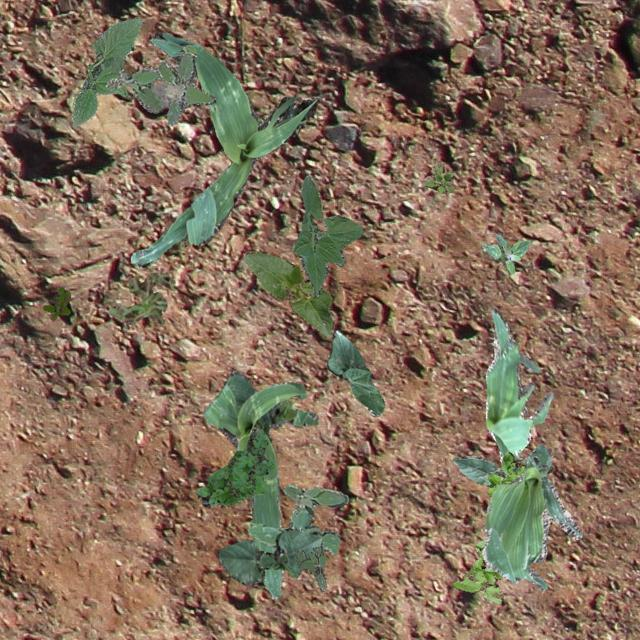crop: (130, 32, 314, 266), (202, 370, 318, 598), (482, 444, 580, 590), (484, 308, 552, 462), (292, 174, 362, 294), (242, 250, 334, 338), (70, 18, 142, 124), (216, 528, 322, 584), (326, 328, 384, 416), (452, 454, 552, 486)
weed: (452, 452, 526, 602), (106, 44, 214, 124), (246, 482, 348, 554), (195, 426, 272, 506), (108, 272, 172, 324), (481, 234, 528, 272), (294, 544, 326, 590), (42, 286, 70, 320), (422, 162, 452, 192)
